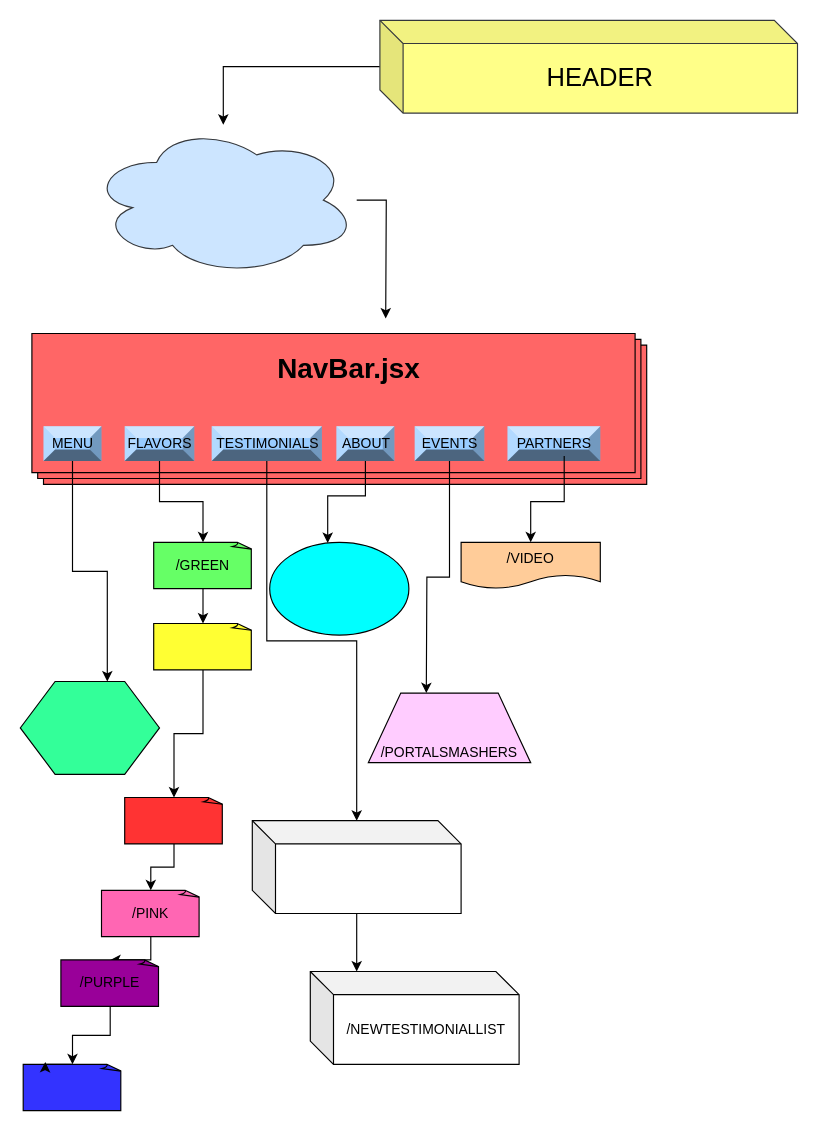
This 818x1131 diagram has some shape labels left out. Each missing label, with the centre of its shape:
"/ABOUT" belongs at (339,588).
"/BLUE" belongs at (72,1087).
"/MENU" belongs at (89,727).
"/NEWTESTIMONIALFORM" belongs at (356,866).
"/RED" belongs at (173,820).
"/YELLOW" belongs at (202,646).
"APP.js" belongs at (223,200).
